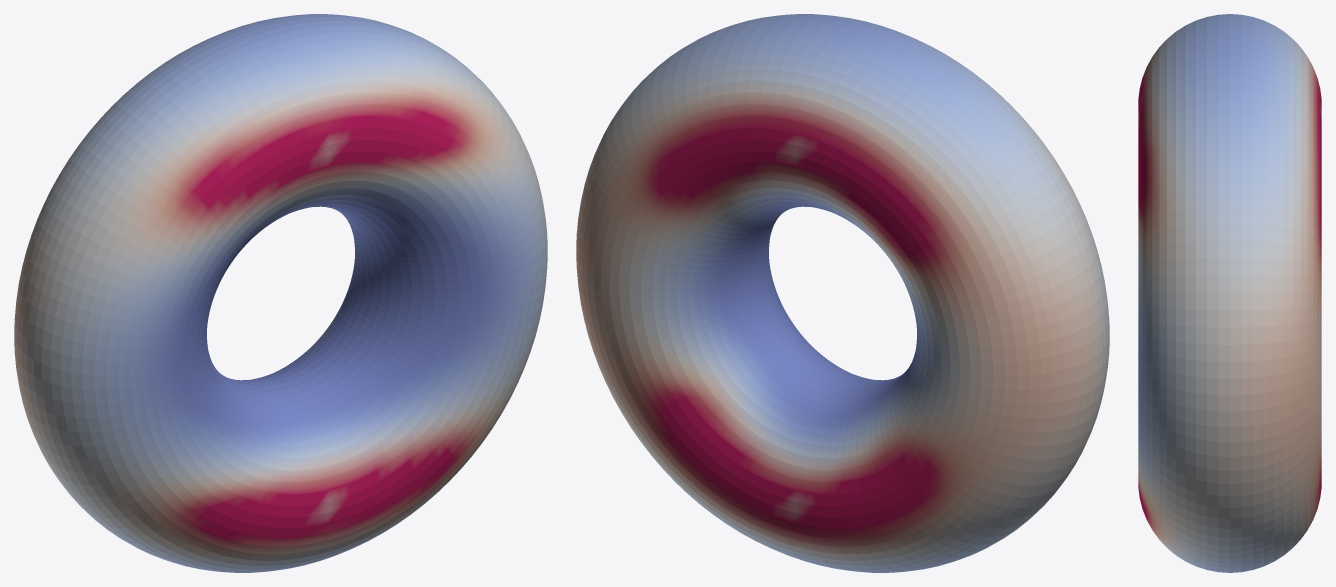
3 renders of one model, left to right at view 1: azimuth 30°, elevation 25°; view 2: azimuth 150°, elevation 25°; view 3: azimuth 270°, elevation 25°, orthographic. The views are drawn at different scales.
Visible parts, largest first — view 1: world; view 2: world; view 3: world.
Part boxes in pixels (left/top/right/bottom): world: left=14, top=14, right=547, bottom=572; world: left=576, top=14, right=1109, bottom=572; world: left=1138, top=14, right=1321, bottom=572.
Bounding box in the file's own units: 19.87 × 19.87 × 6.52.
